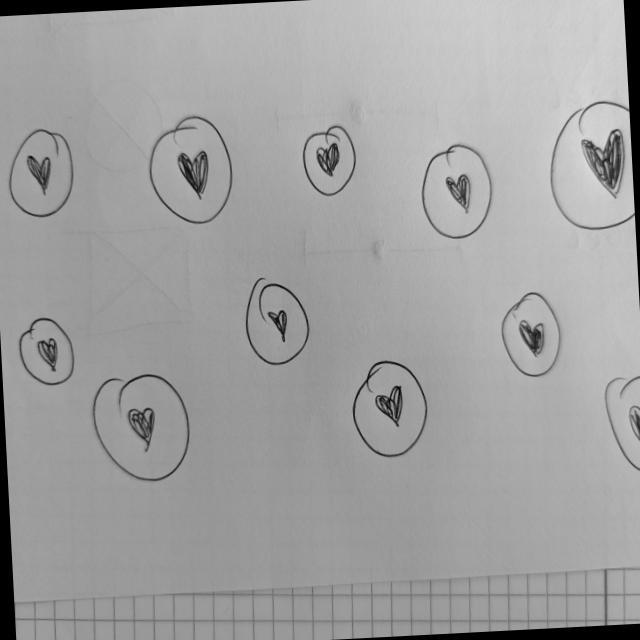icon-button: (544, 96, 636, 234), (90, 368, 194, 486), (146, 107, 238, 231), (348, 353, 432, 463), (414, 138, 499, 244), (2, 124, 78, 224), (239, 274, 315, 370), (499, 285, 566, 382), (15, 313, 79, 389), (298, 123, 359, 201), (601, 370, 640, 476)
